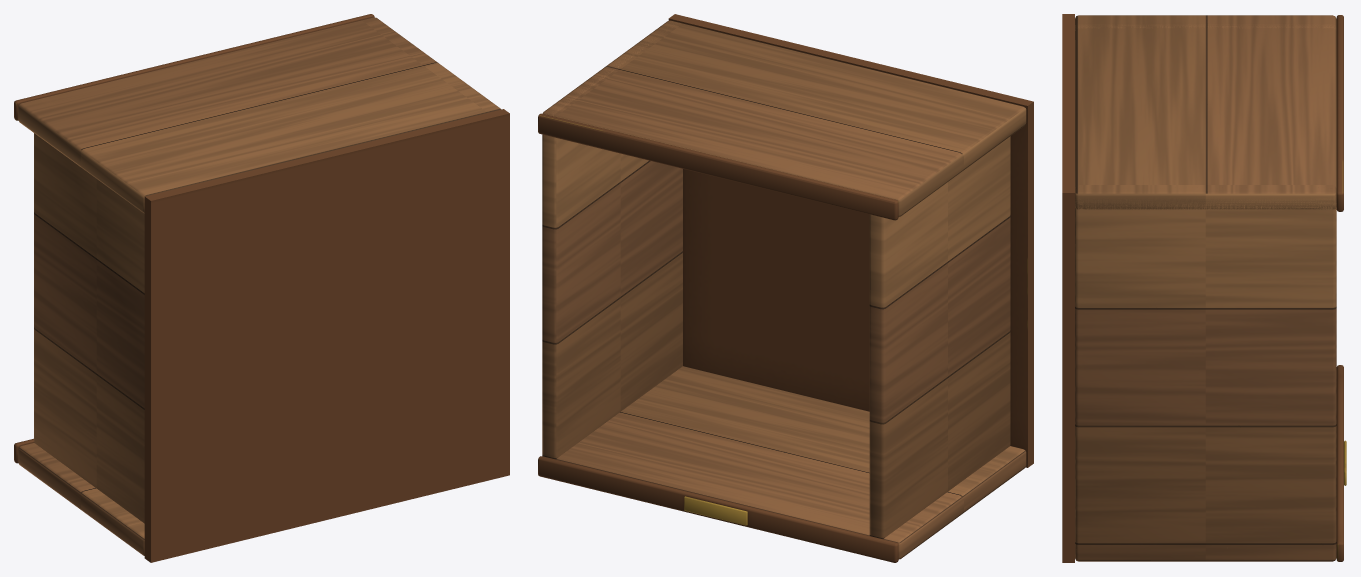
File: itemshelf_1x1.fbx
3 views of the same model, side by side, from view 1: azimuth 30°, elevation 25°; view 2: azimuth 150°, elevation 25°; view 3: azimuth 270°, elevation 25° (orthographic). The views are drawn at different scales.
Parts seen in each view (by area): view 1: itemshelf_1x1; view 2: itemshelf_1x1; view 3: itemshelf_1x1.
Boxes of the visible parts, bbox=[...] form: itemshelf_1x1: bbox=[14, 14, 509, 562]; itemshelf_1x1: bbox=[538, 14, 1033, 562]; itemshelf_1x1: bbox=[1062, 14, 1346, 562].
Size of the model in its own units: 0.68 by 0.655 by 0.456.
